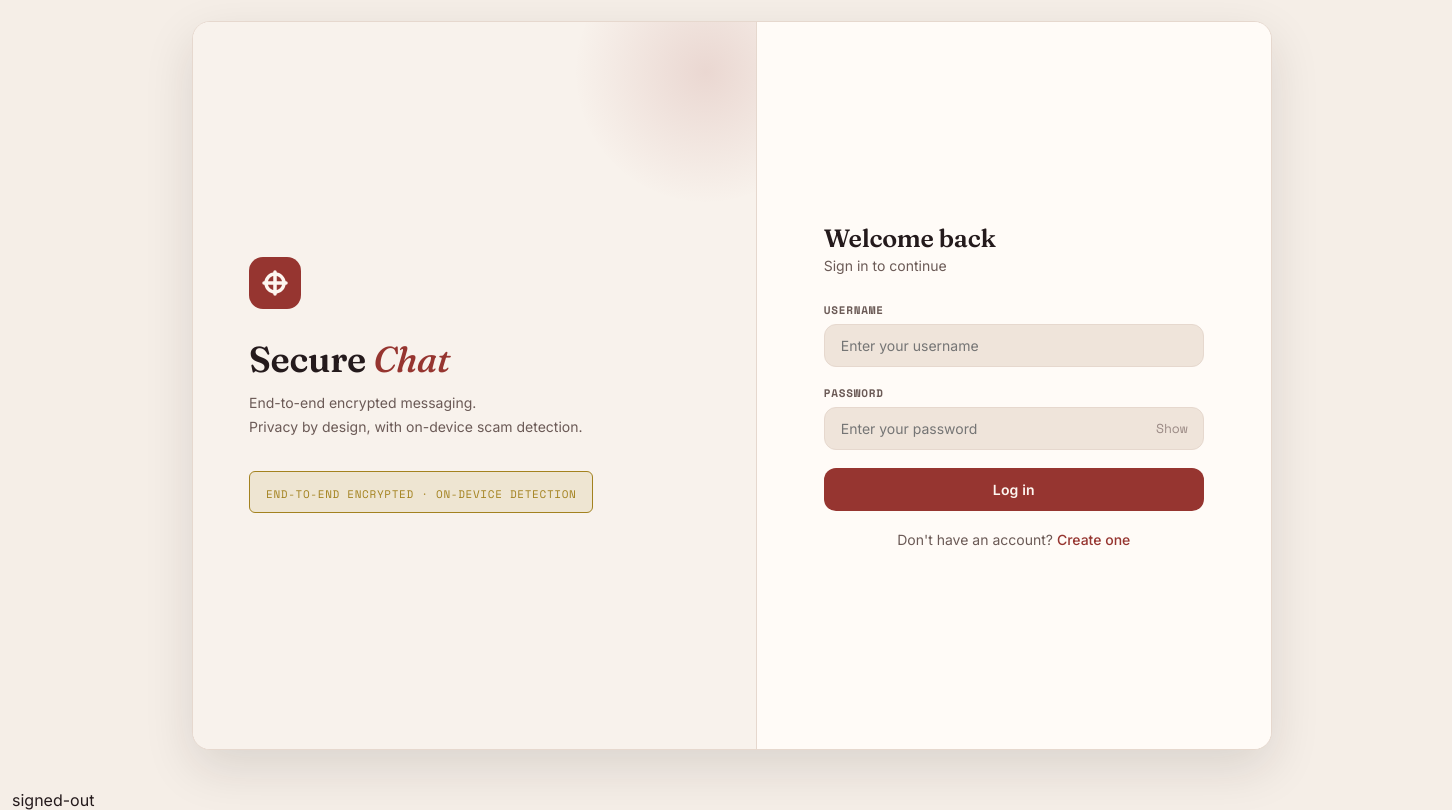
Test: AuthScreen › shows the server error and stays signed out on invalid login credentials
This screenshot has width=1452, height=810.
(page scrolled)
Type "alice" into the field labelled "Username".
click(1014, 345); type("alice")  # box [824,324,1204,366]
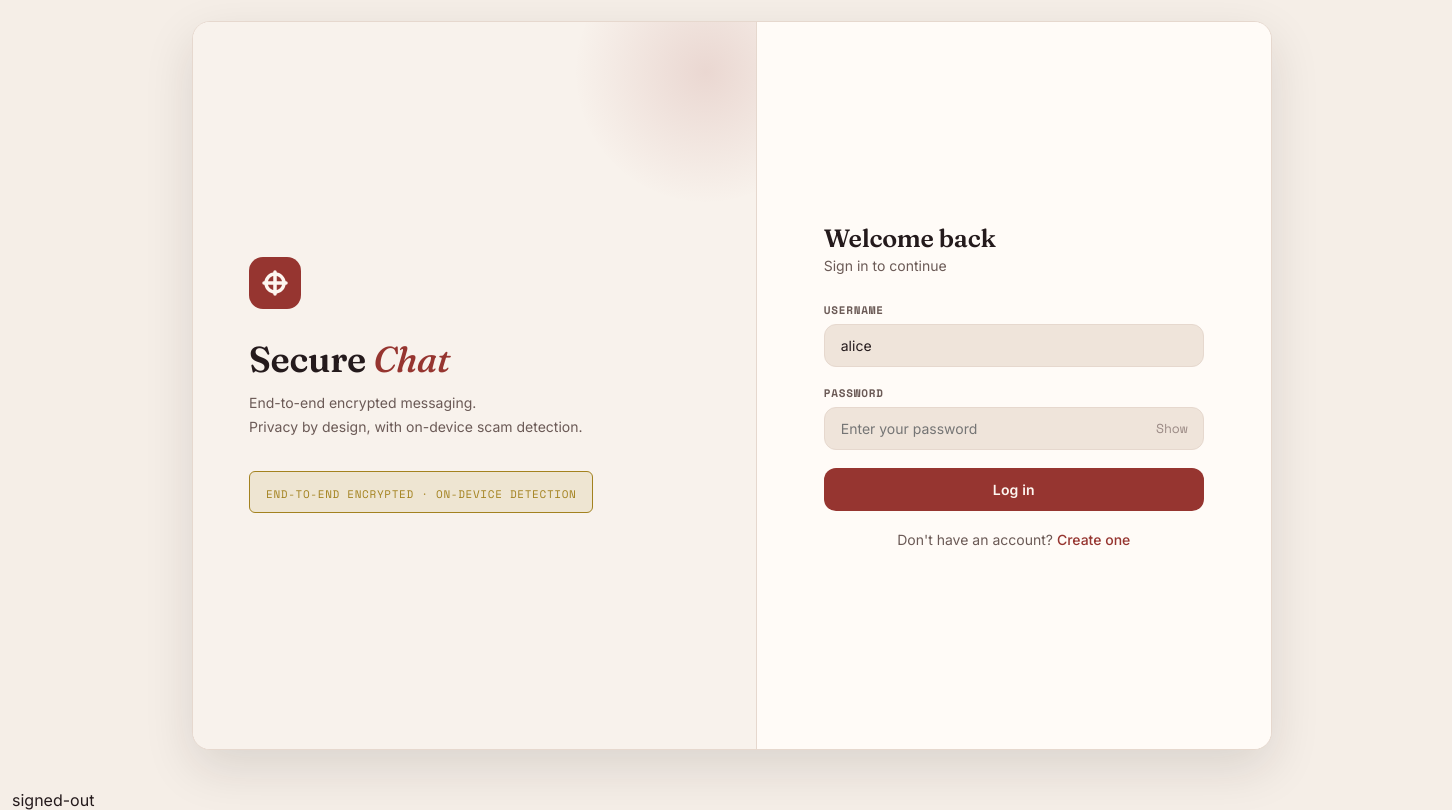
Type "wrong password" into the password field labelled "Password".
click(1014, 428); type("wrong password")  # box [824,406,1204,450]
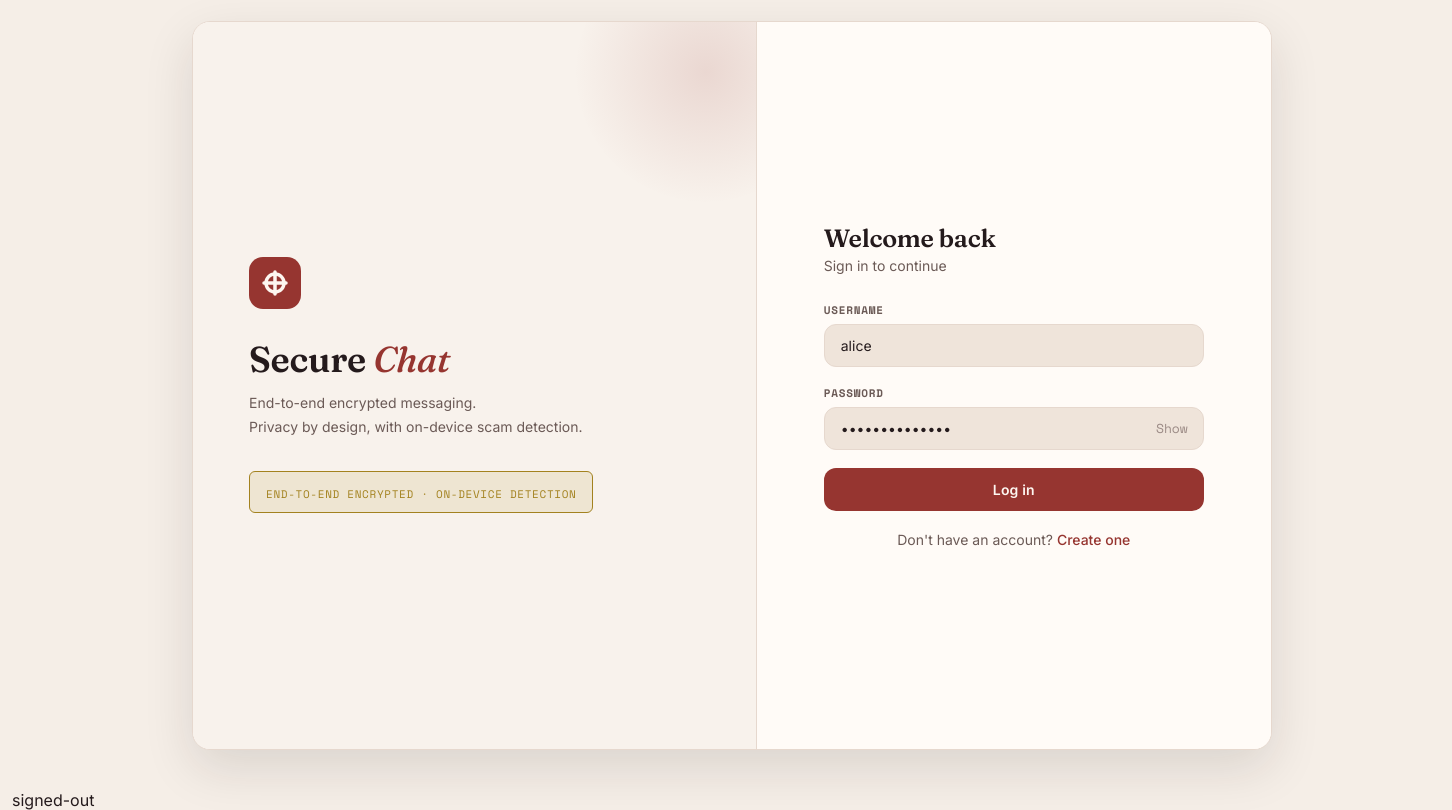
Click the button "Log in".
click(1014, 489)  # box [824,468,1204,510]
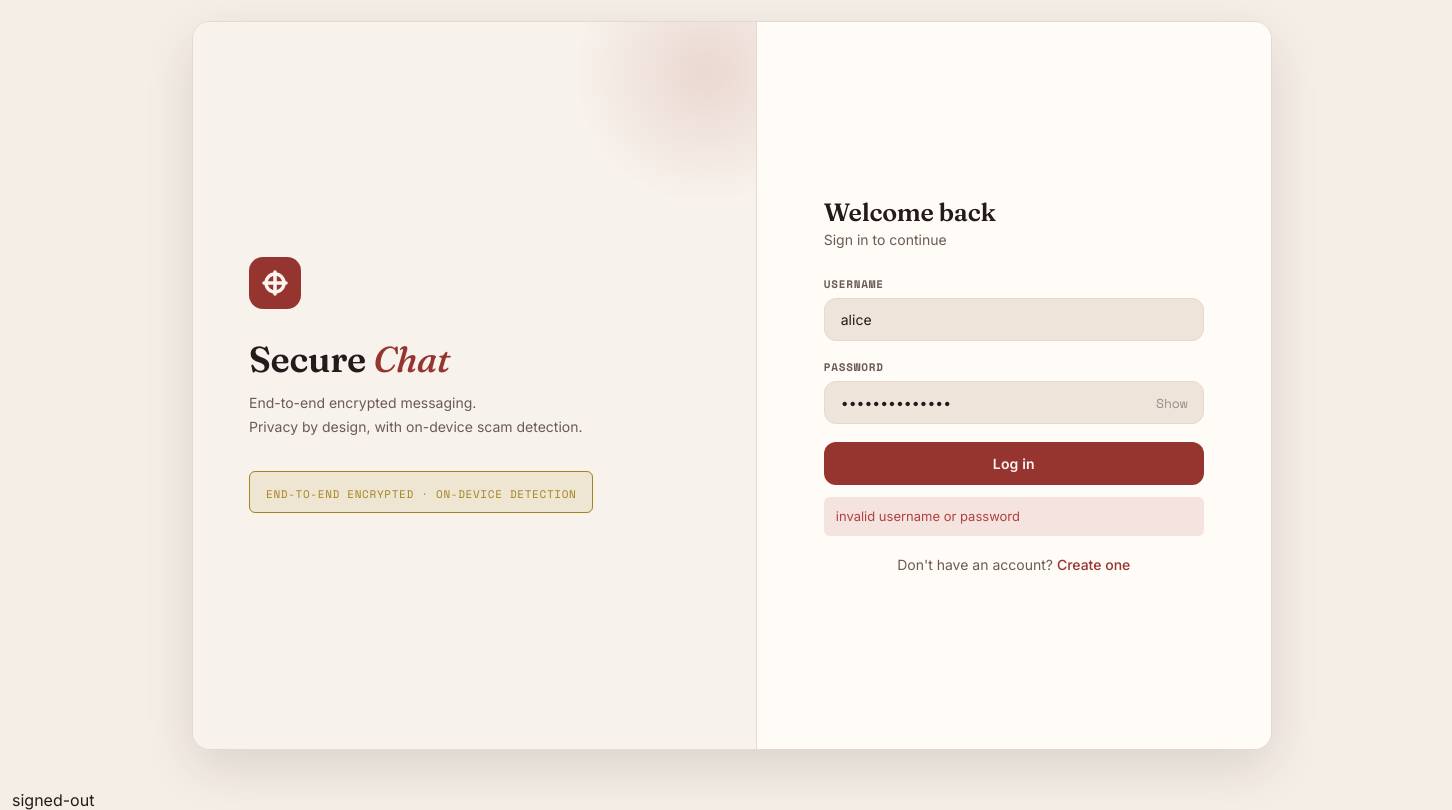
Expected: the text with test id "session-probe" reads "signed-out", [12,790,94,809]
Expected: the text "invalid username or password" is shown, [824,497,1204,536]
